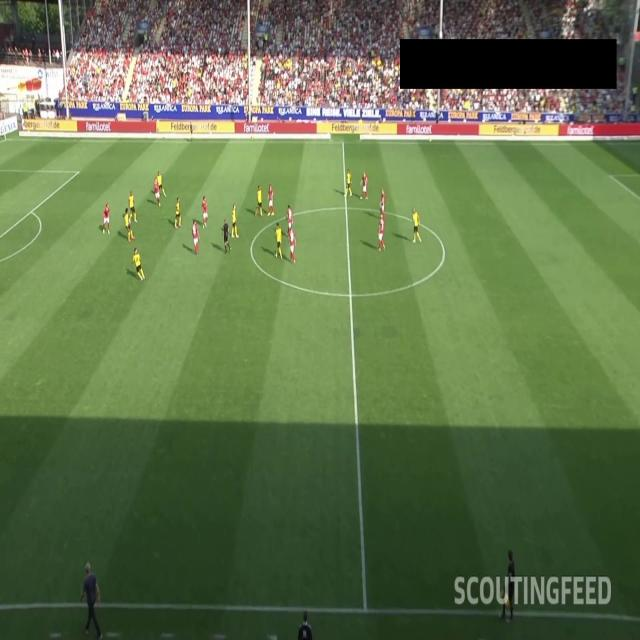player: (130, 243, 145, 282), (190, 218, 201, 256), (360, 164, 370, 201), (412, 204, 420, 249), (254, 183, 265, 214), (230, 201, 239, 238), (123, 204, 132, 241), (274, 222, 283, 258), (378, 212, 386, 252), (127, 191, 137, 223), (290, 227, 298, 264), (380, 186, 388, 221), (201, 193, 209, 228), (153, 174, 162, 205), (174, 194, 182, 227), (157, 170, 166, 197), (345, 166, 353, 196), (267, 183, 274, 217), (103, 201, 110, 233), (286, 203, 292, 233)
